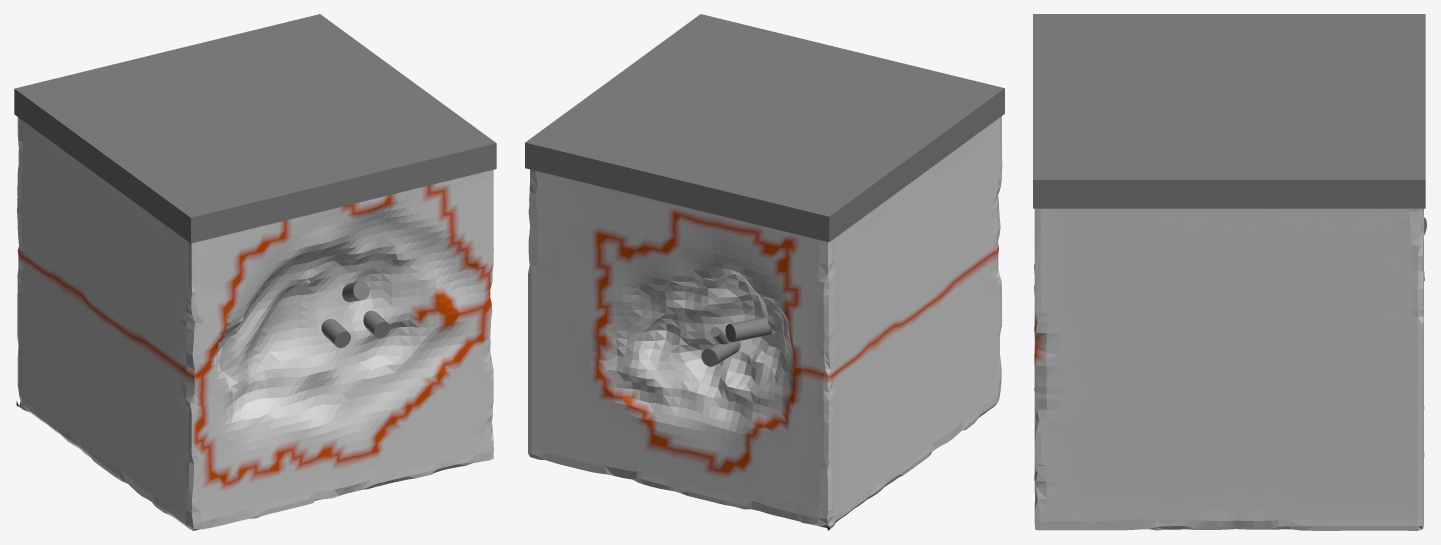
File: c_wood_wbars.fbx
3 renders of one model, left to right at view 1: azimuth 30°, elevation 25°; view 2: azimuth 150°, elevation 25°; view 3: azimuth 270°, elevation 25°, orthographic. The views are drawn at different scales.
Visible parts, largest first — view 1: blockshaved_oPP, wood, metal_bars; view 2: blockshaved_oPP, wood, metal_bars; view 3: blockshaved_oPP, wood.
Part boxes in pixels (x1,y1,x2,y2): blockshaved_oPP: (16, 117, 493, 530); wood: (14, 14, 496, 243); metal_bars: (321, 281, 389, 347); blockshaved_oPP: (528, 116, 1002, 530); wood: (525, 14, 1004, 242); metal_bars: (701, 316, 771, 366); blockshaved_oPP: (1034, 208, 1424, 530); wood: (1033, 14, 1425, 208).
Size of the model in its own units: 2.02 by 2 by 2.03.
